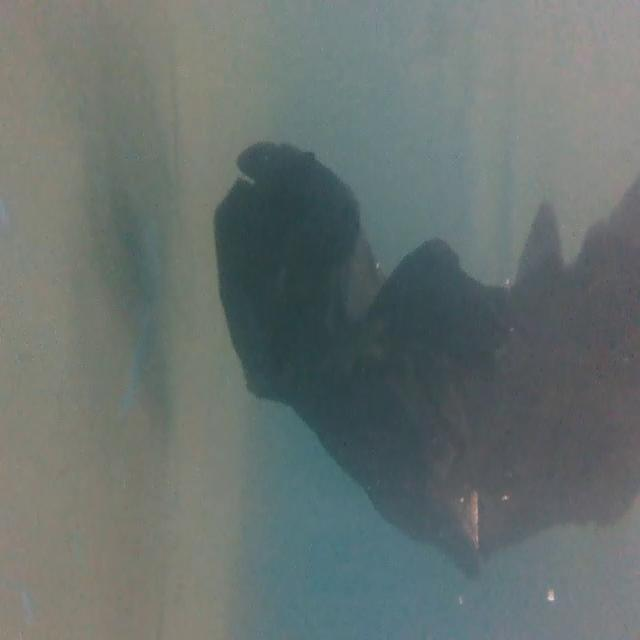plastic bags: (202, 128, 640, 572)
